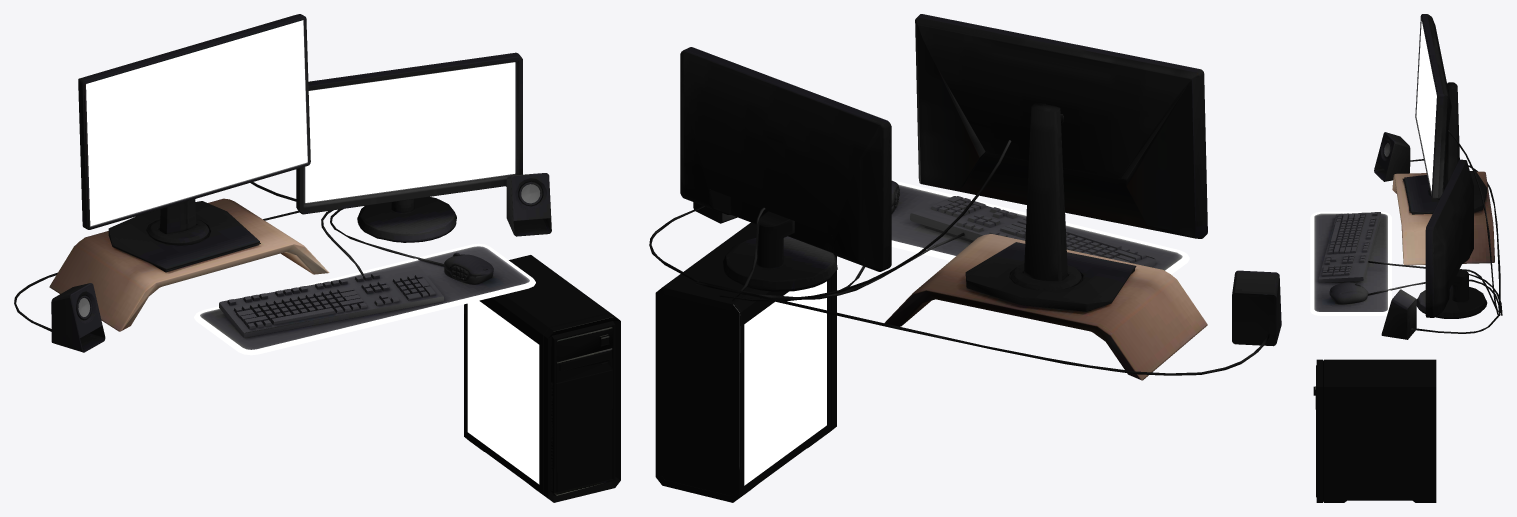
The model's file is aboutme-packed.glb.
3 renders of one model, left to right at view 1: azimuth 30°, elevation 25°; view 2: azimuth 150°, elevation 25°; view 3: azimuth 270°, elevation 25°, orthographic. The views are drawn at different scales.
Size of the model in its own units: 3.48 by 3 by 1.58.
4 materials, 1 textured.
